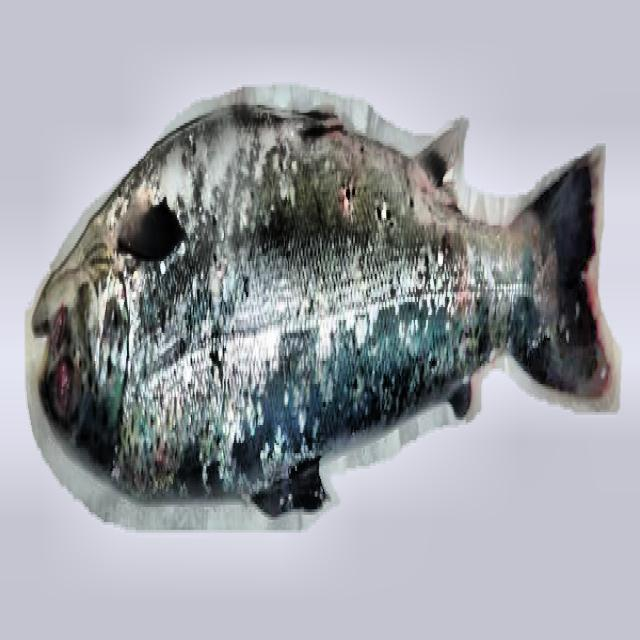mild_red: (74, 105, 558, 515)
